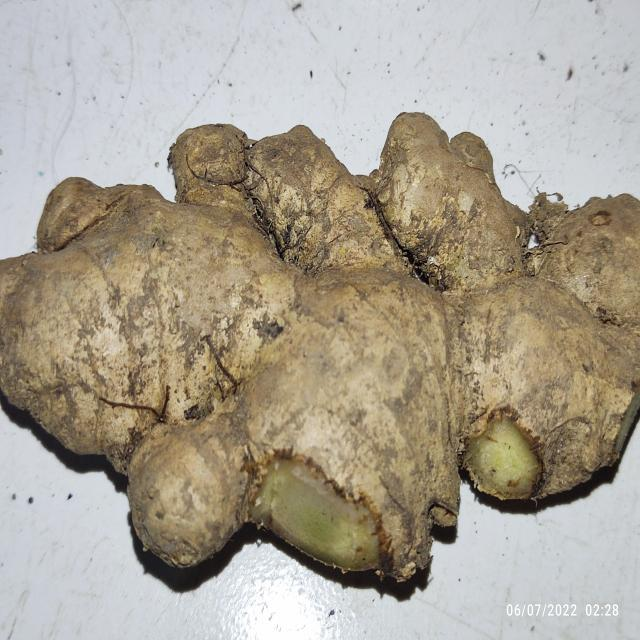ginger: (5, 126, 640, 579)
